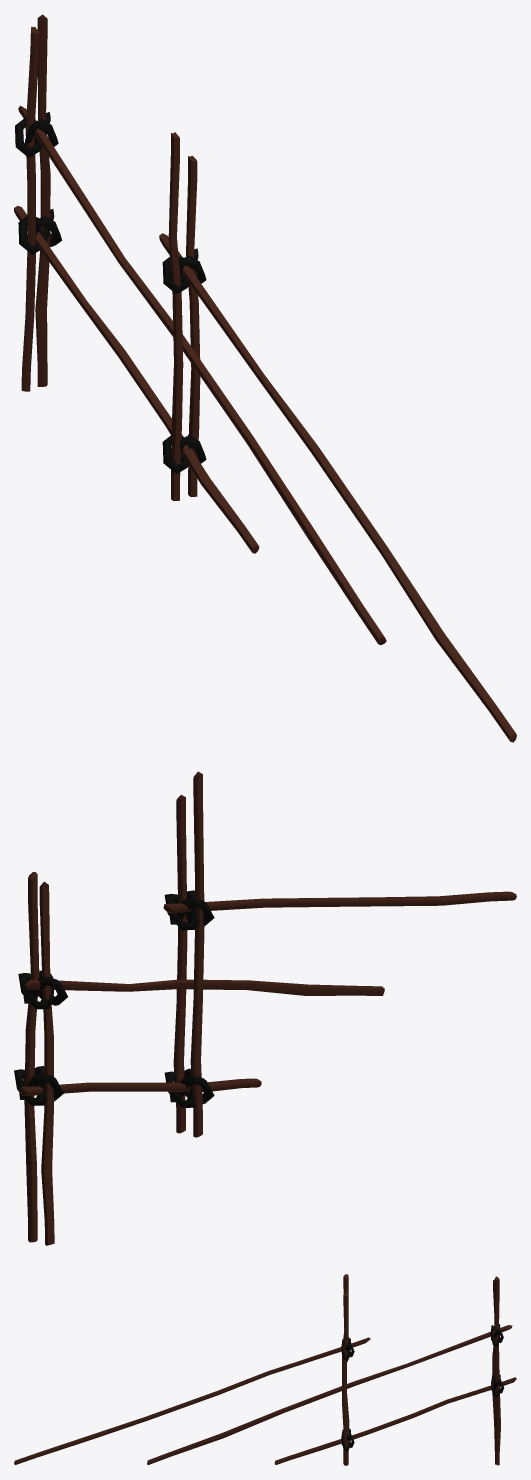
File: revenant_pole_fence_end_01.fbx
3 renders of one model, top to bottom at view 1: azimuth 30°, elevation 25°; view 2: azimuth 150°, elevation 25°; view 3: azimuth 270°, elevation 25°, orthographic. The views are drawn at different scales.
Parts seen in each view (by area): view 1: Box015, Torus Knot010; view 2: Box015, Torus Knot010; view 3: Box015, Torus Knot010.
Part boxes in pixels (x1=…): Box015: x1=14, y1=14, x2=516, y2=742; Torus Knot010: x1=15, y1=112, x2=206, y2=473; Box015: x1=19, y1=771, x2=516, y2=1245; Torus Knot010: x1=14, y1=890, x2=214, y2=1107; Box015: x1=14, y1=1274, x2=516, y2=1465; Torus Knot010: x1=341, y1=1324, x2=503, y2=1452.
Size of the model in its own units: 26.97 by 206 by 494.
